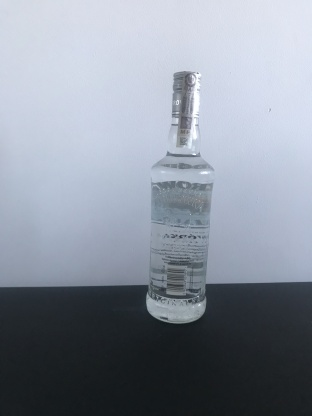nakretka: (169, 65, 203, 121)
